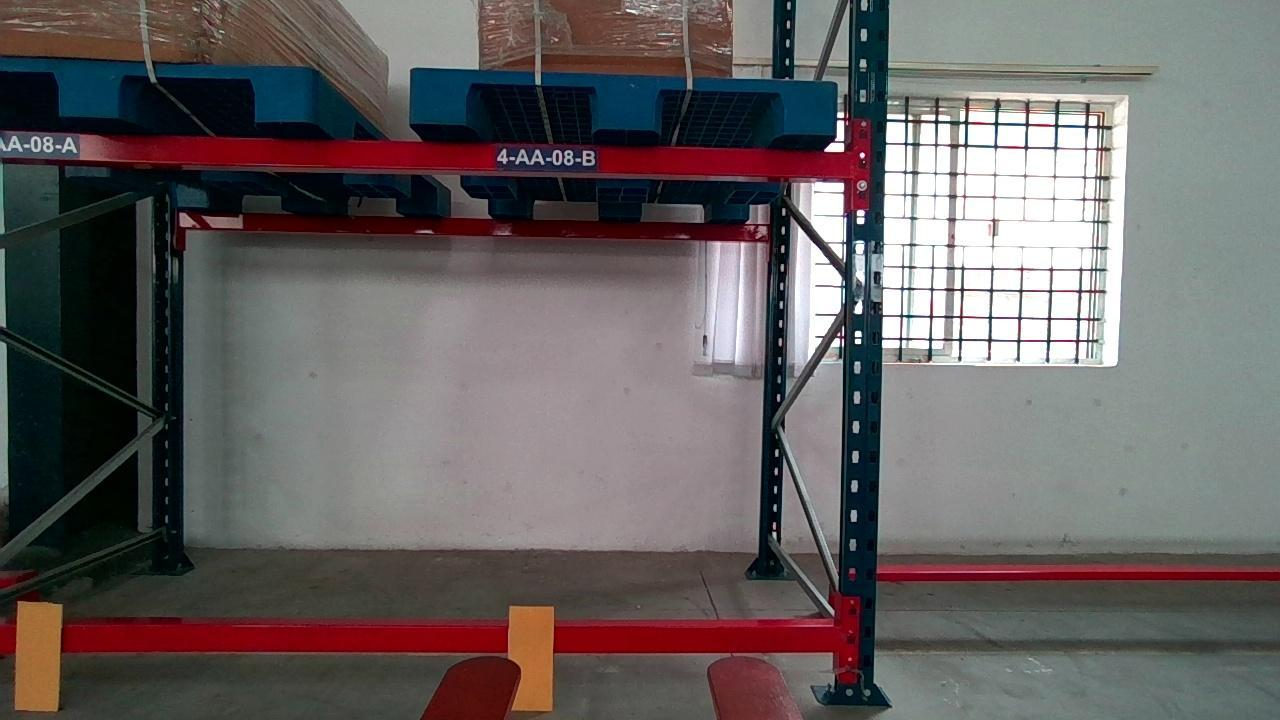h_rack: (1, 620, 841, 653)
orange_strip: (14, 600, 67, 713), (511, 606, 552, 714)
small_pallet: (410, 69, 835, 139), (0, 54, 313, 122)
